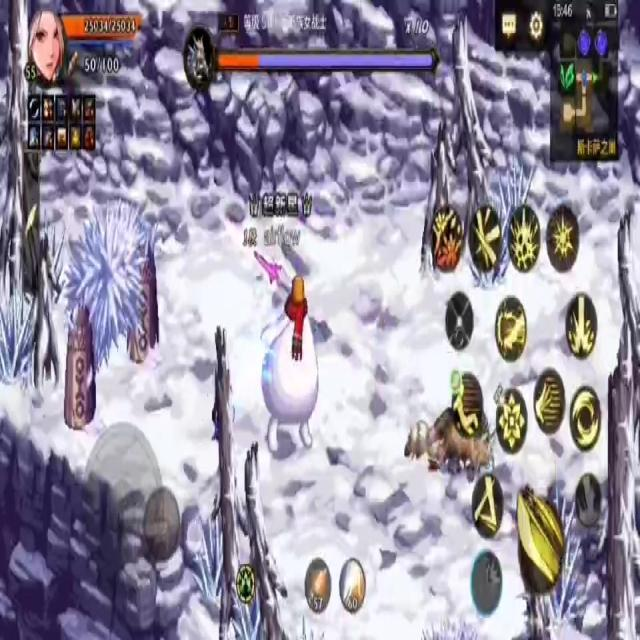player: (263, 264, 314, 454)
